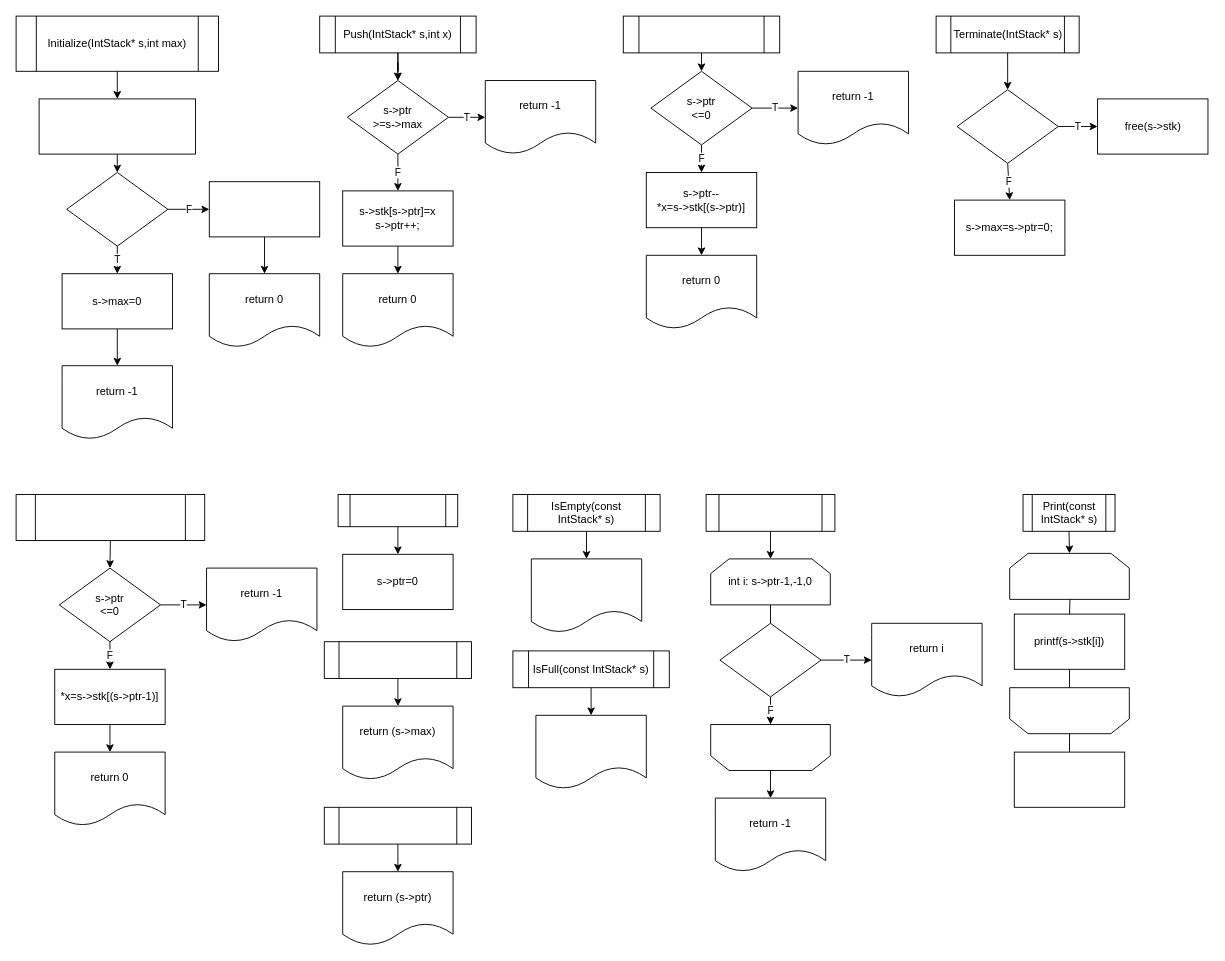
This 1225x961 diagram has some shape labels left out. Here are the shapes that lost their labels. From the top down, the centre of each, then its label:
pixel 701 34: Pop(IntStack* s,int* x)
pixel 117 126: s->ptr =0 s->stk=calloc(max,sizeof(int))
pixel 1007 126: s->stk !=NULL
pixel 117 209: s->stk ==NULL
pixel 264 209: s->max=max
pixel 110 517: Peek(const IntStack* s,int* x)
pixel 397 510: Clear(IntStack* s)
pixel 770 512: Search(const IntStack *s,int x)
pixel 586 595: return (s->ptr<=0)
pixel 1069 575: int i: 0,1,s->ptr
pixel 397 659: Capacity(const IntStack* s)
pixel 770 659: s->stk[i] ==x
pixel 590 751: return (s->ptr>=s->max)
pixel 1069 779: putchar(\n)
pixel 397 825: Size(const IntStack* s)
